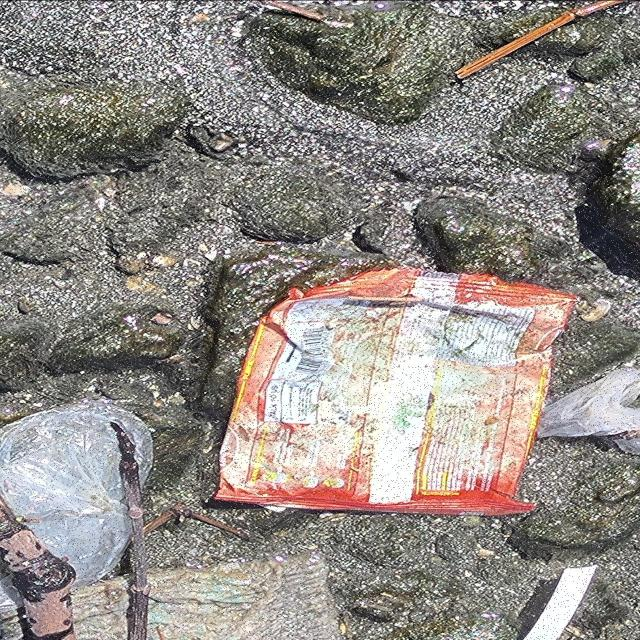plastic_waste: (217, 269, 578, 518)
